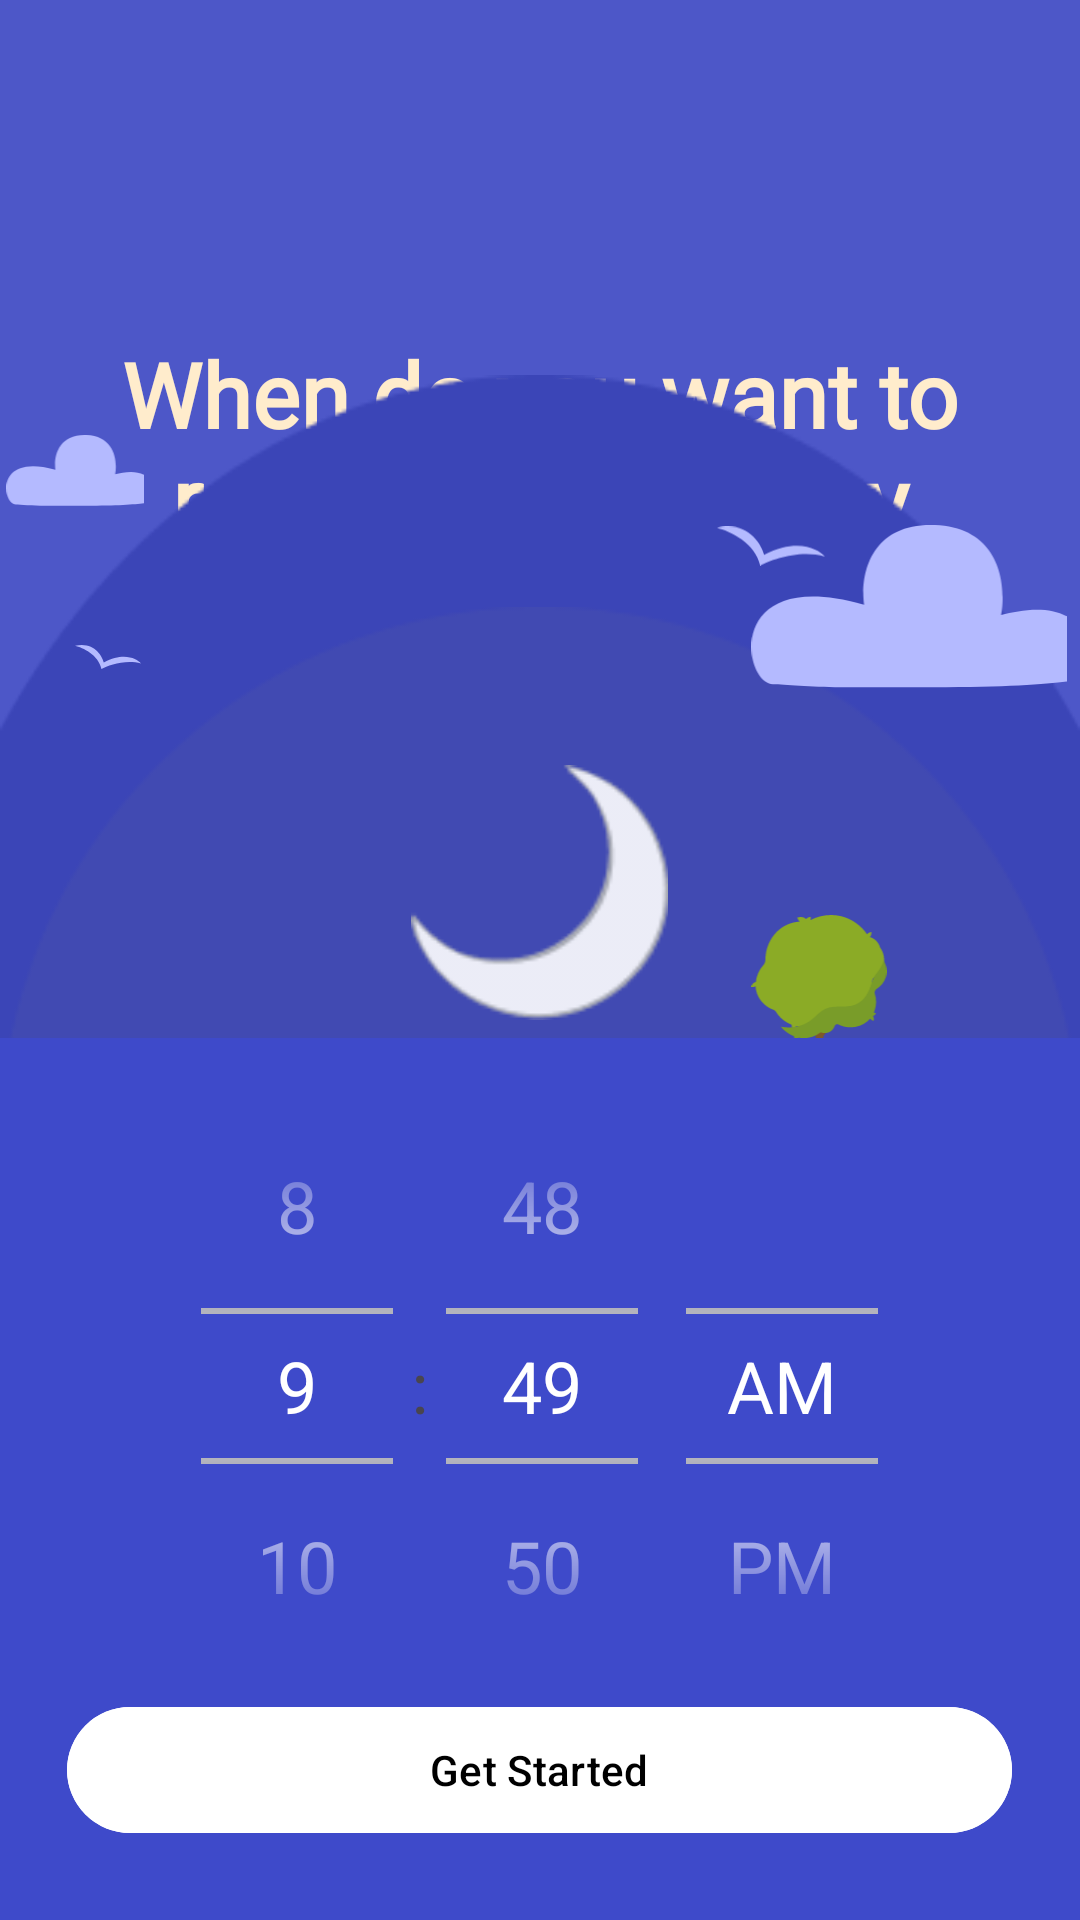

Point at icon controls on the screen. Image size 1080px x 1920px, points as [x,y].
moon: [539,892]
